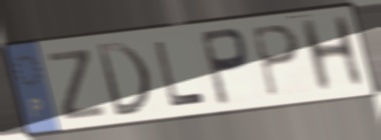D: (93, 40, 154, 120)
H: (296, 12, 369, 97)
L: (151, 39, 209, 110)
P: (197, 25, 251, 108), (248, 22, 303, 101)
Z: (44, 46, 109, 124)
